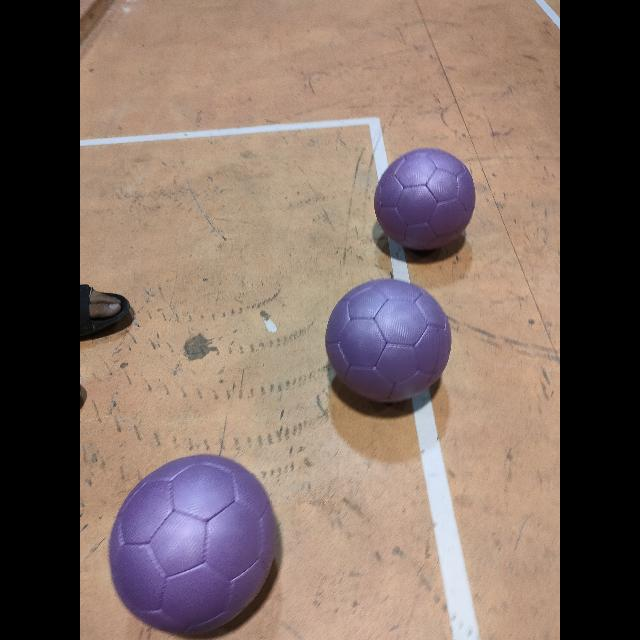P: (110, 455, 276, 633), (325, 280, 451, 402), (375, 148, 475, 250)
